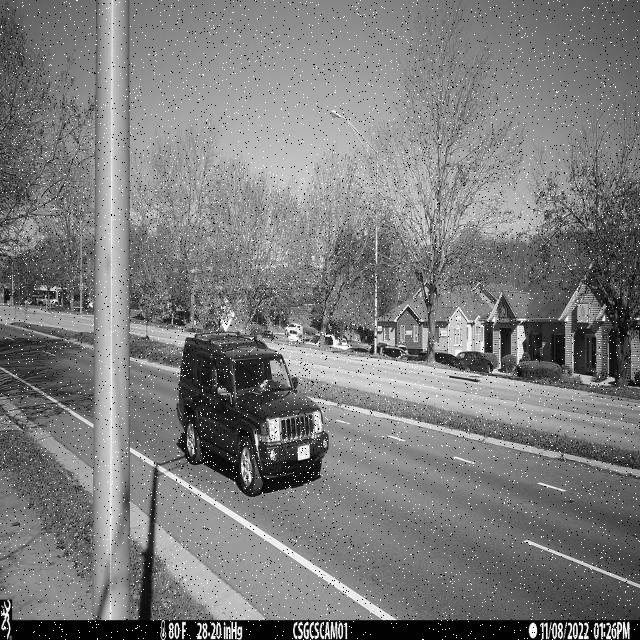Pickup: (175, 331, 329, 497)
